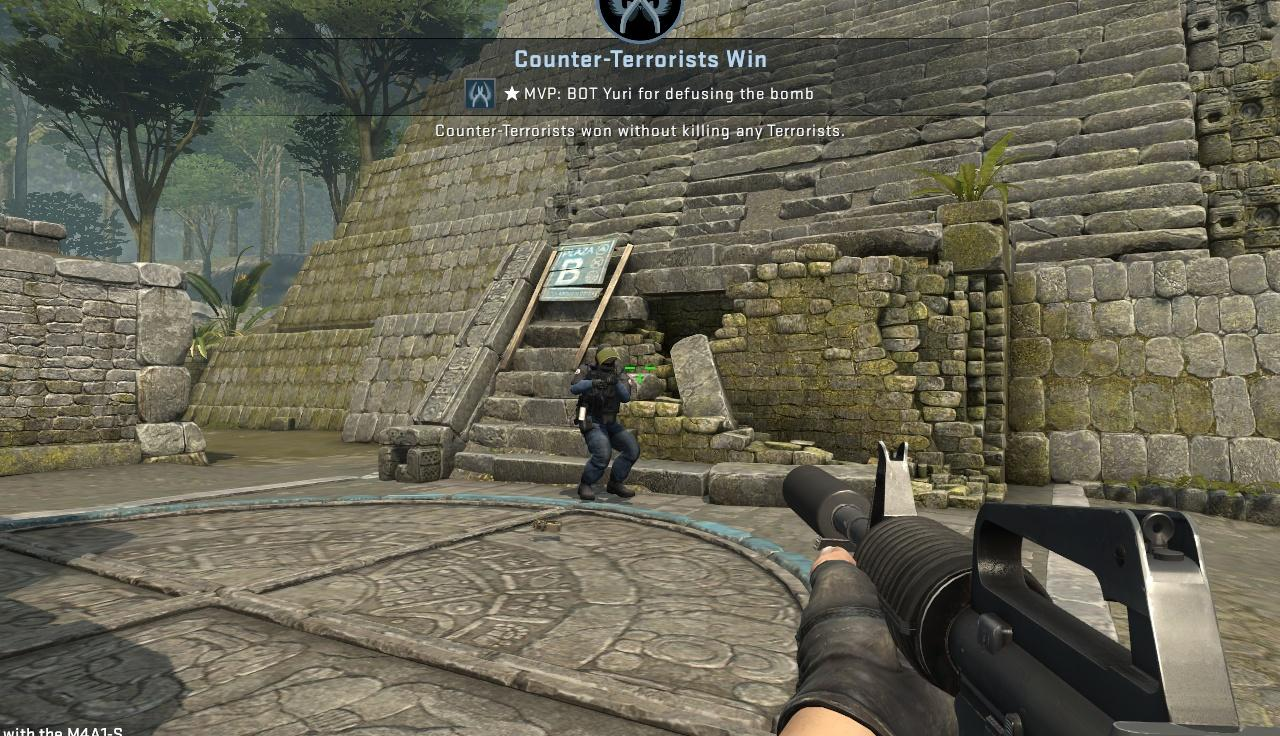ct: (572, 343, 633, 499)
cthead: (598, 347, 626, 372), (600, 348, 625, 373)
rifle: (787, 437, 1268, 731)
